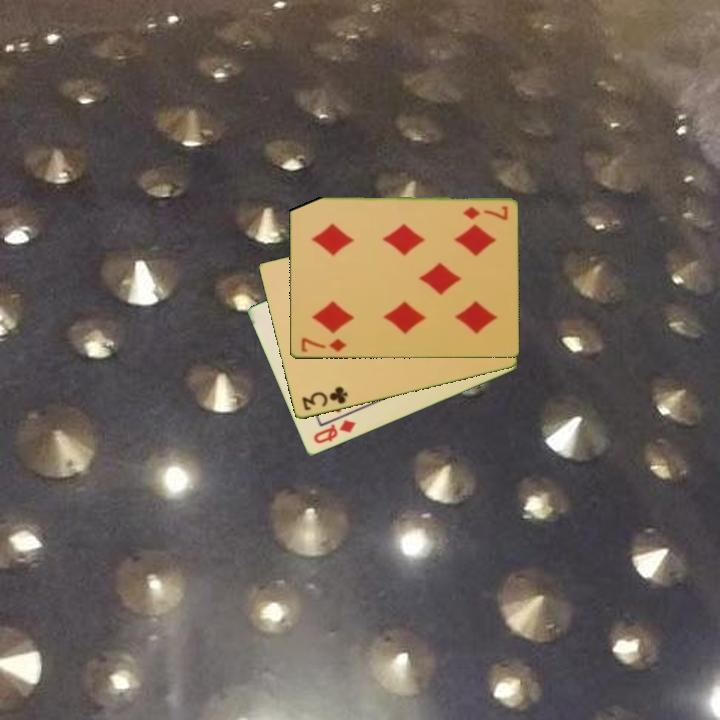3c: (298, 383, 350, 414)
7d: (297, 334, 349, 355), (459, 203, 510, 222)
Qd: (309, 416, 359, 447)
